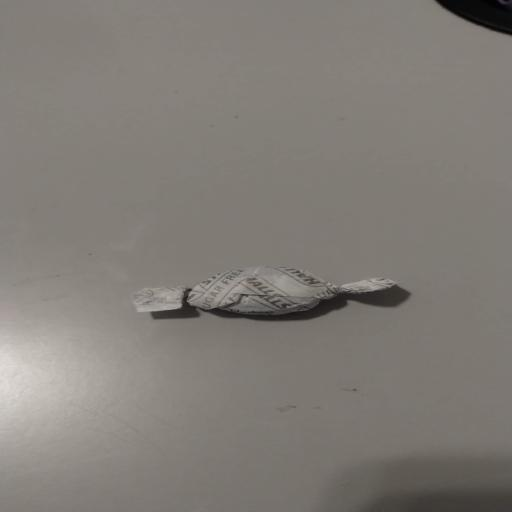chocolate: (133, 267, 395, 315)
